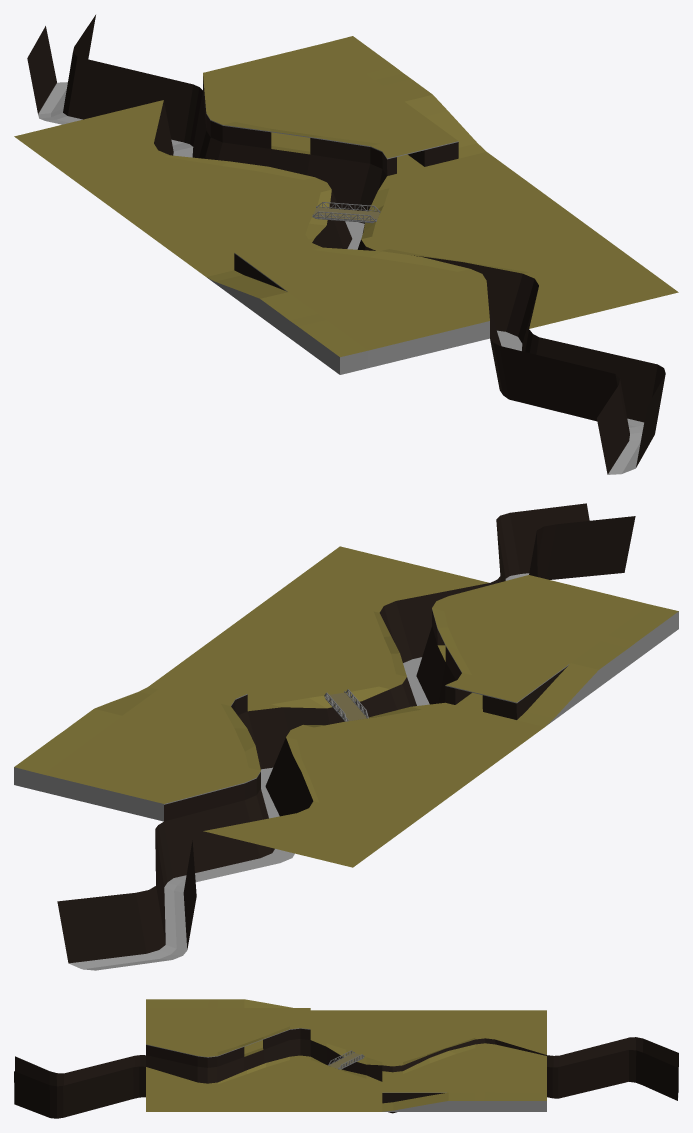
The model's file is NewCanyon.FBX.
3 renders of one model, top to bottom at view 1: azimuth 30°, elevation 25°; view 2: azimuth 150°, elevation 25°; view 3: azimuth 270°, elevation 25°, orthographic. The views are drawn at different scales.
Parts seen in each view (by area): view 1: Object022, Object018, Object019, Object017, Object024, Object026, Object003, Object001, Object015, Object038, Object028, Object005 (+24 smaller); view 2: Object022, Object018, Object001, Object019, Object017, Object024, Object015, Object026, Object038, Object003, Object013, Object028 (+22 smaller); view 3: Object022, Object018, Object024, Object017, Object015, Object001, Object026, Object038, Object003, Object028, Object002, Object013 (+25 smaller).
Boxes of the visible parts, x1,y1,x2,y2 form: Object022: (488, 279, 665, 474); Object018: (27, 15, 202, 151); Object019: (154, 91, 382, 230); Object017: (529, 255, 678, 328); Object024: (14, 100, 163, 172); Object026: (94, 161, 314, 221); Object003: (210, 88, 385, 148); Object001: (203, 51, 340, 136); Object015: (380, 207, 598, 262); Object038: (352, 274, 489, 342); Object028: (148, 189, 331, 255); Object005: (310, 113, 458, 175); Object022: (384, 503, 635, 668); Object018: (57, 822, 196, 970); Object001: (76, 746, 256, 821); Object019: (164, 738, 313, 882); Object017: (290, 546, 489, 605); Object024: (203, 808, 402, 867); Object015: (223, 605, 406, 676); Object026: (286, 737, 469, 808); Object038: (437, 575, 615, 632); Object003: (127, 713, 260, 794); Object013: (177, 644, 389, 708); Object028: (303, 716, 515, 769); Object022: (14, 1055, 207, 1118); Object018: (547, 1037, 678, 1100); Object024: (485, 1010, 546, 1054); Object017: (146, 1067, 207, 1111); Object015: (244, 1056, 289, 1111); Object001: (485, 1043, 546, 1082); Object026: (403, 1010, 448, 1065); Object038: (146, 1018, 207, 1056); Object003: (429, 1043, 485, 1082); Object028: (346, 1010, 382, 1065); Object002: (484, 1082, 546, 1111); Object013: (310, 1057, 346, 1111).
Size of what is drawn, in the model's own units: 23618 by 5582 by 65282.
